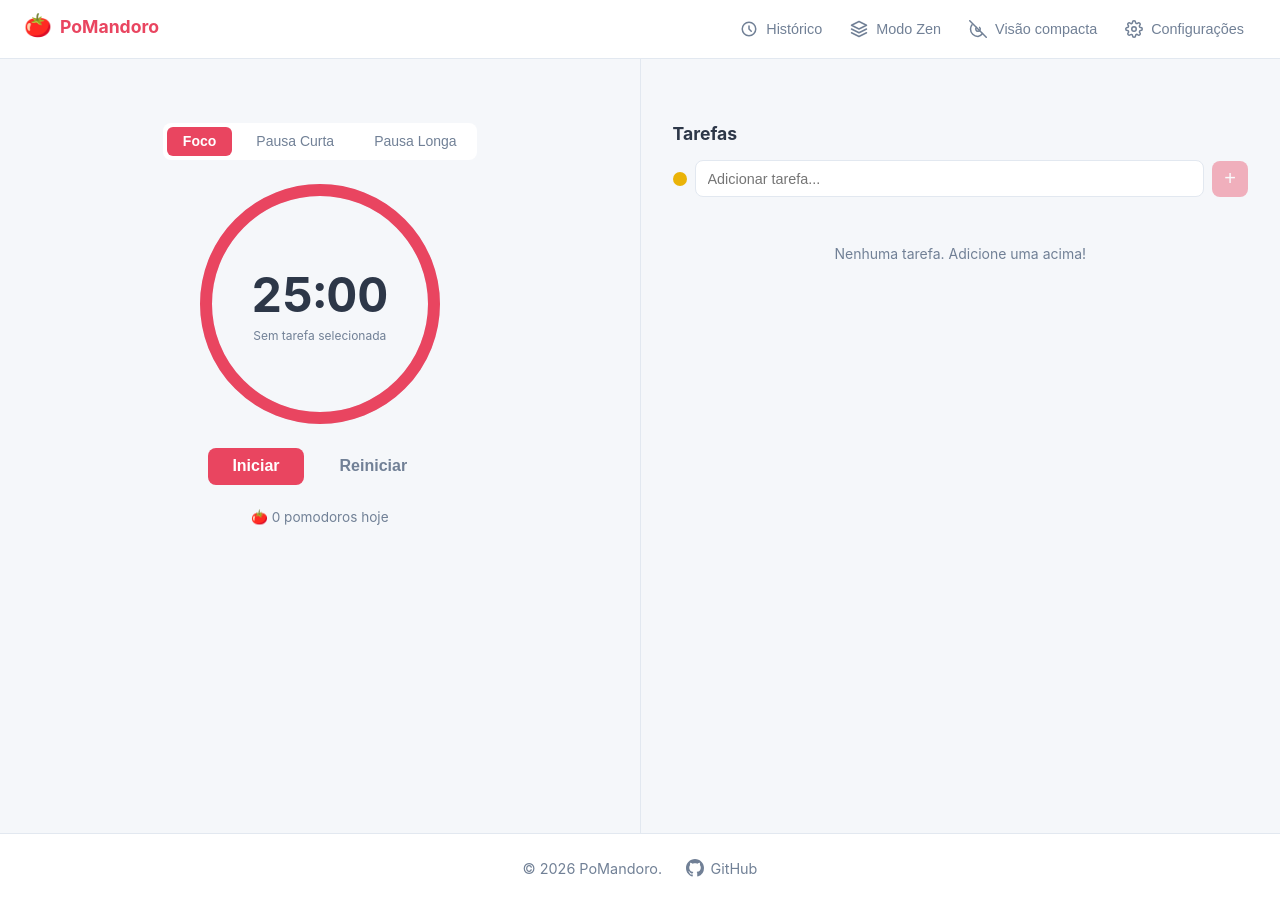
it: App Component › closes modals with Escape key
Note: Open settings
Click the button labelled "Configurações".
click(1185, 29)  # box 1113,12 -> 1256,46
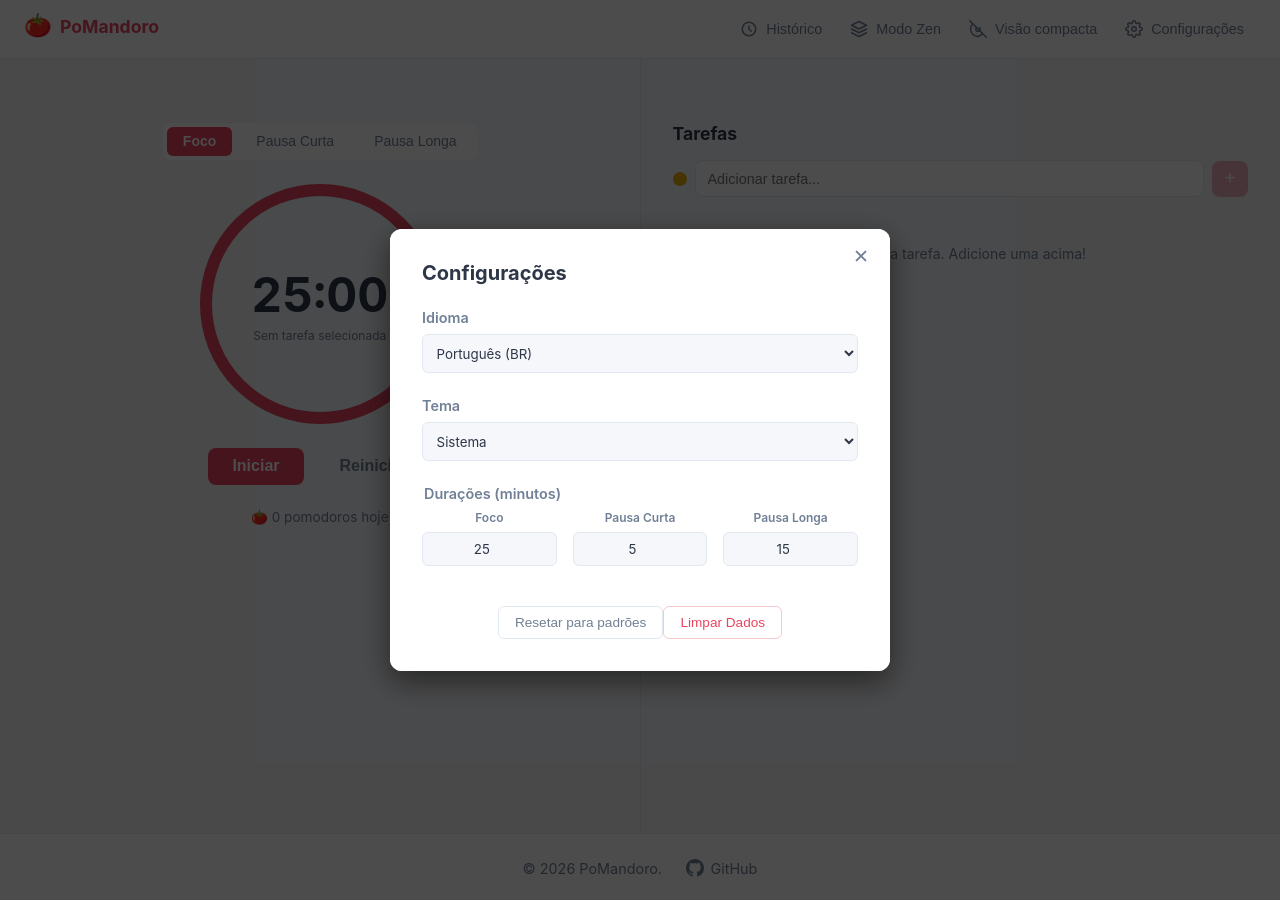
Check: the text "Durações (minutos)" is shown, box 422,486 -> 563,502
Note: Press Escape
Press Escape
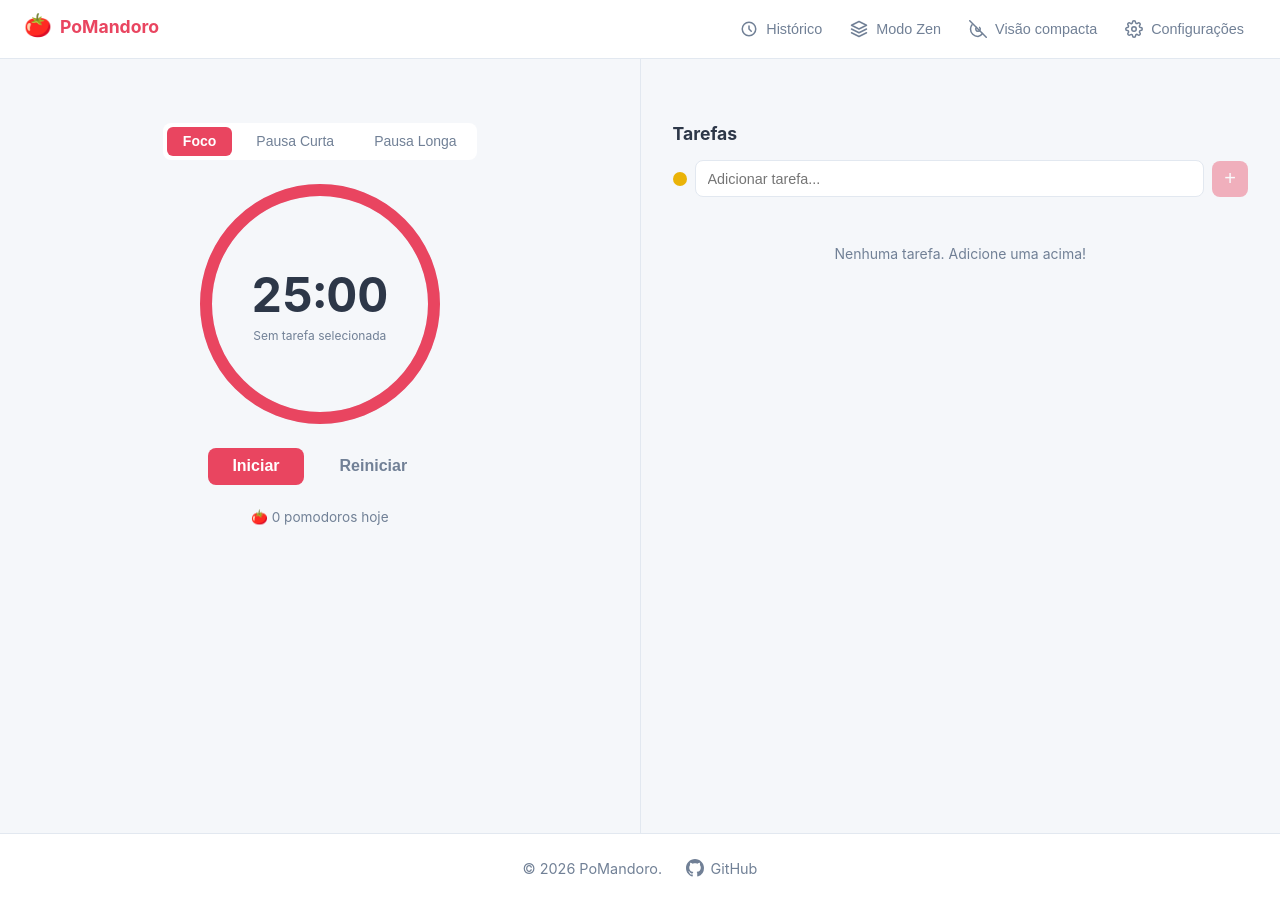
Check: the text "Durações (minutos)" is gone
